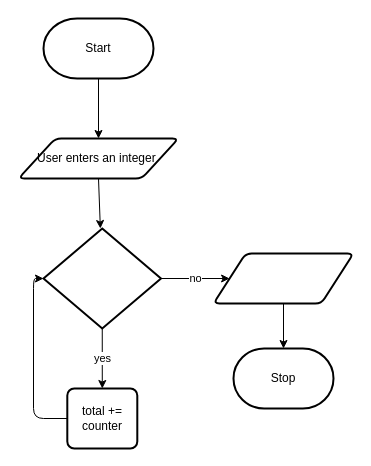
Some shapes in this 371 by 466 pixel diagram are drawn without their labels. Each missing label, with the centre of its shape:
"The answer is: " + total: the point at 283,278
for counter <= number: the point at 102,278
